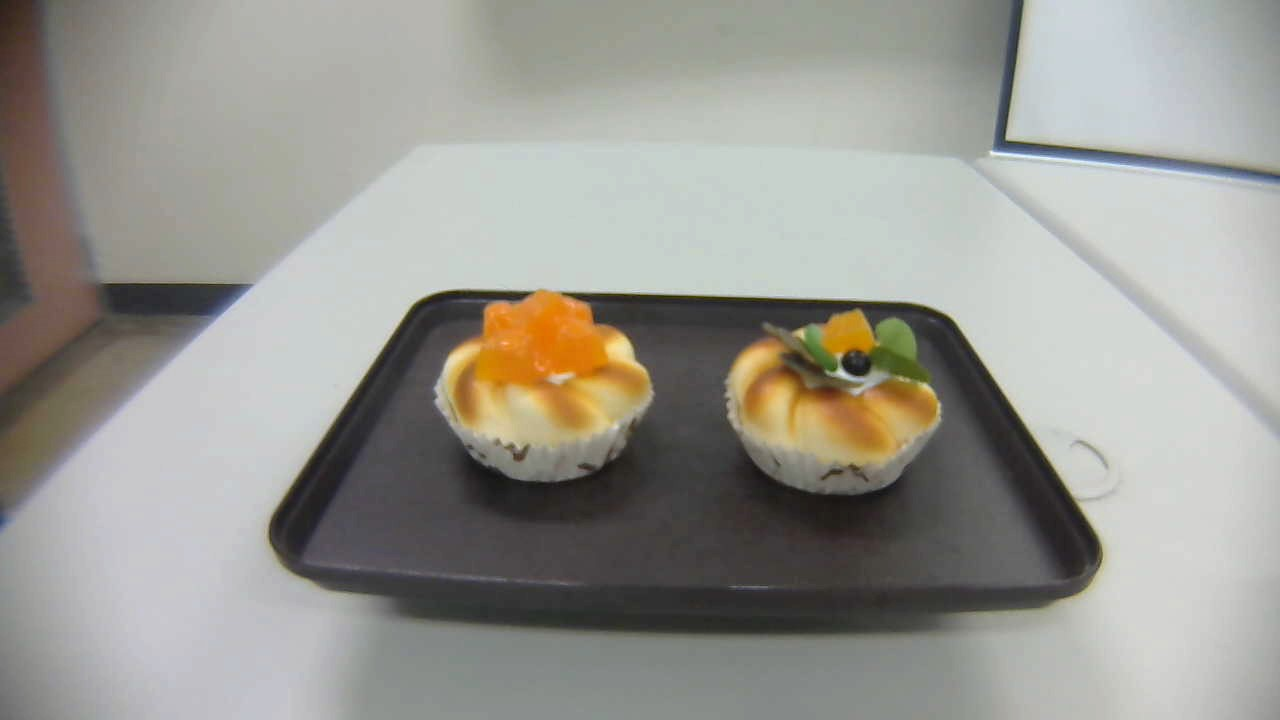fruit tart: (723, 305, 944, 497)
mango tart: (431, 288, 656, 482)
